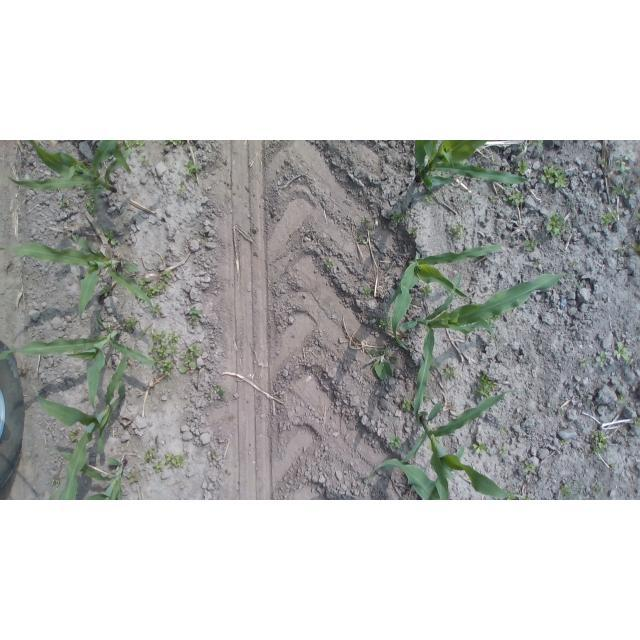Maize: (399, 273, 582, 428), (0, 313, 156, 428), (391, 389, 530, 500), (1, 235, 158, 321), (386, 243, 502, 350), (33, 384, 125, 501), (7, 140, 133, 198), (412, 140, 533, 194), (365, 444, 466, 500), (59, 450, 128, 500)
Weeds: (148, 332, 180, 377), (135, 270, 174, 298), (368, 348, 398, 381), (178, 341, 201, 373), (540, 166, 569, 189), (475, 370, 498, 398), (546, 212, 571, 237), (591, 431, 609, 456), (611, 180, 633, 200), (165, 451, 185, 469), (503, 188, 525, 204), (613, 341, 630, 361), (600, 211, 622, 225), (84, 196, 100, 215), (118, 140, 147, 150), (184, 160, 201, 177), (449, 223, 466, 240), (471, 440, 489, 456), (139, 448, 158, 463), (374, 316, 394, 330), (444, 364, 460, 381), (524, 237, 541, 252), (615, 156, 630, 173), (103, 227, 117, 245), (189, 305, 202, 324), (515, 160, 529, 176), (389, 435, 403, 451), (391, 213, 410, 224), (596, 350, 607, 368), (522, 459, 536, 473), (153, 459, 167, 473), (126, 472, 140, 485), (359, 283, 373, 296), (421, 283, 433, 297), (559, 484, 573, 496), (400, 398, 412, 412), (152, 303, 164, 316), (99, 286, 113, 297), (69, 427, 79, 442), (123, 316, 135, 328), (177, 180, 186, 196), (140, 154, 152, 165), (164, 140, 185, 146), (424, 195, 436, 205), (592, 484, 601, 496), (140, 330, 151, 339), (534, 257, 543, 268), (579, 358, 590, 367), (508, 489, 517, 500), (532, 140, 544, 148), (215, 388, 225, 397), (359, 234, 368, 244), (49, 477, 60, 485), (59, 200, 71, 207), (498, 446, 507, 455), (408, 227, 418, 235), (500, 427, 509, 435), (619, 394, 627, 402), (460, 159, 469, 166), (184, 403, 193, 410), (326, 260, 333, 269), (433, 363, 441, 370), (362, 218, 371, 224), (467, 196, 473, 205), (634, 417, 640, 426), (571, 261, 578, 268), (517, 144, 523, 152), (635, 213, 640, 222), (635, 243, 640, 252), (494, 316, 503, 321), (523, 495, 532, 500), (424, 396, 433, 401), (491, 196, 497, 203), (210, 452, 216, 459), (365, 226, 373, 231), (602, 159, 607, 167), (560, 439, 566, 445), (618, 248, 625, 253), (611, 464, 618, 469), (108, 326, 113, 332), (505, 183, 511, 188), (587, 397, 591, 403), (636, 177, 640, 182), (203, 232, 206, 236)
